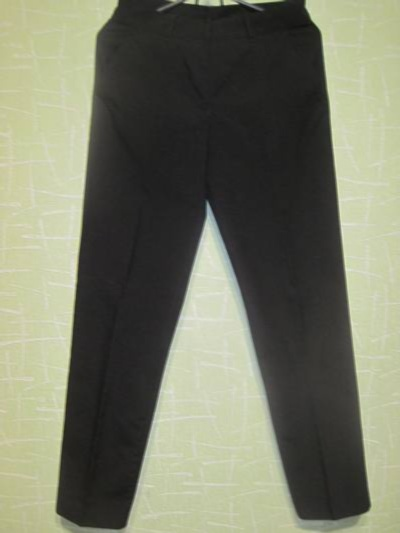Pants: (43, 9, 364, 531)
